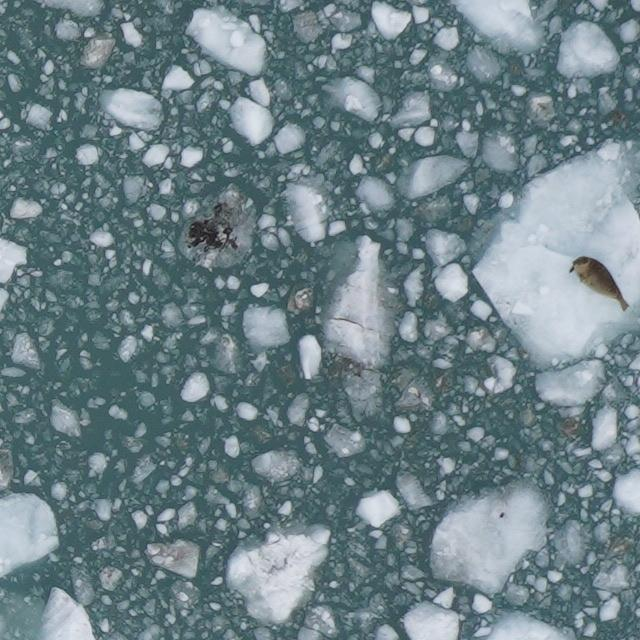seal: (564, 253, 632, 314)
